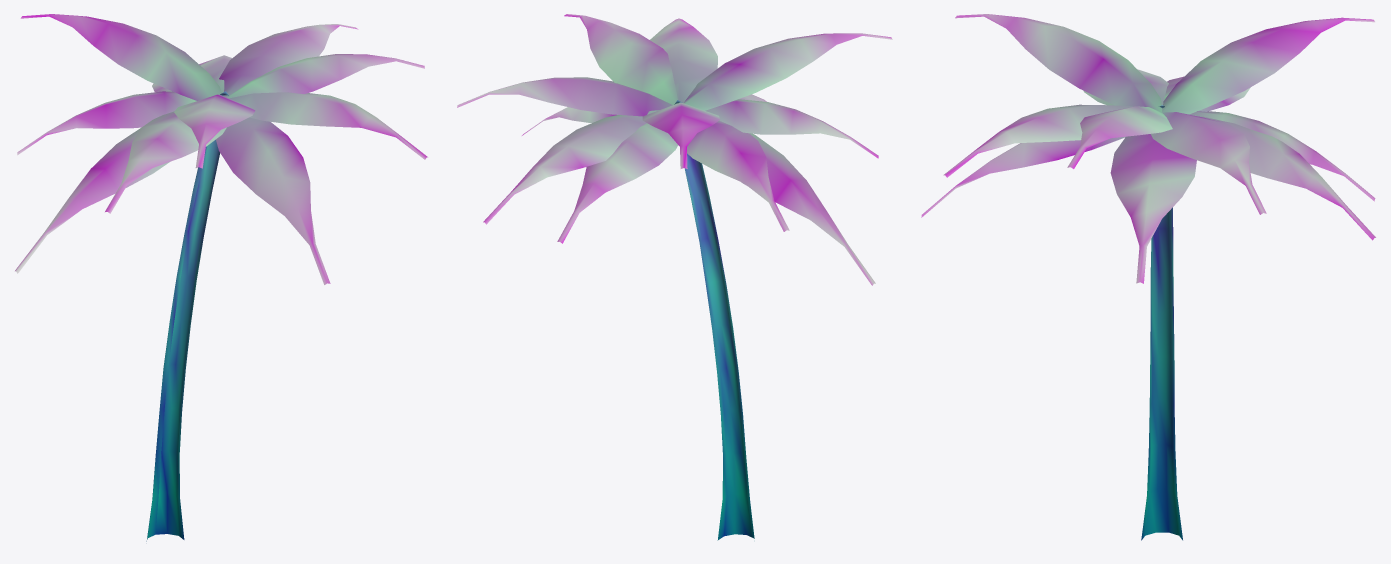
File: palme.glb
3 renders of one model, left to right at view 1: azimuth 30°, elevation 25°; view 2: azimuth 150°, elevation 25°; view 3: azimuth 270°, elevation 25°, orthographic. The views are drawn at different scales.
Parts seen in each view (by area): view 1: palme_lod0; view 2: palme_lod0; view 3: palme_lod0.
Part boxes in pixels (x1,y1,x2,y2): palme_lod0: (15,14,427,541); palme_lod0: (457,14,892,540); palme_lod0: (921,14,1375,540).
Size of what is drawn, in the model's own units: 8.26 by 9.82 by 7.9.
